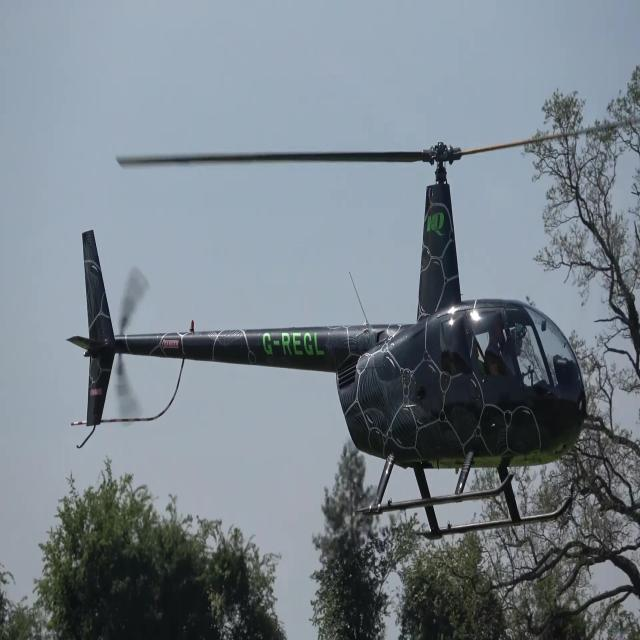CIV_HELO: (61, 137, 589, 544)
